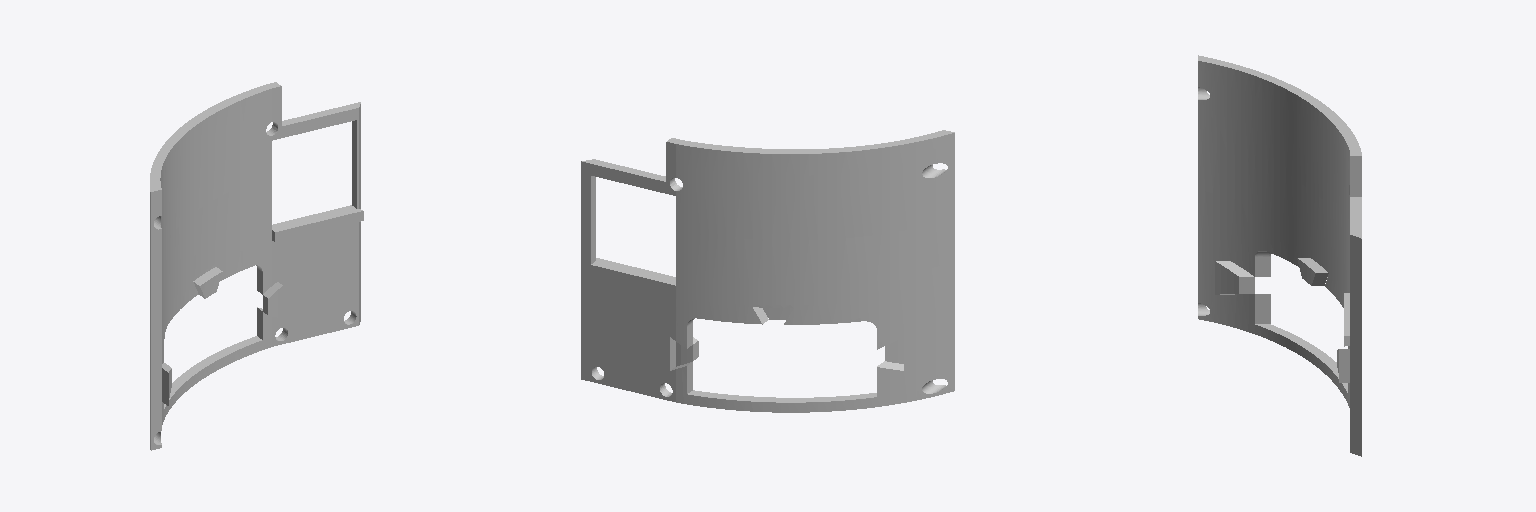
File: tapa frontal.obj
3 renders of one model, left to right at view 1: azimuth 30°, elevation 25°; view 2: azimuth 150°, elevation 25°; view 3: azimuth 270°, elevation 25°, orthographic.
Size of the model in its own units: 90.75 by 76.7 by 43.83.